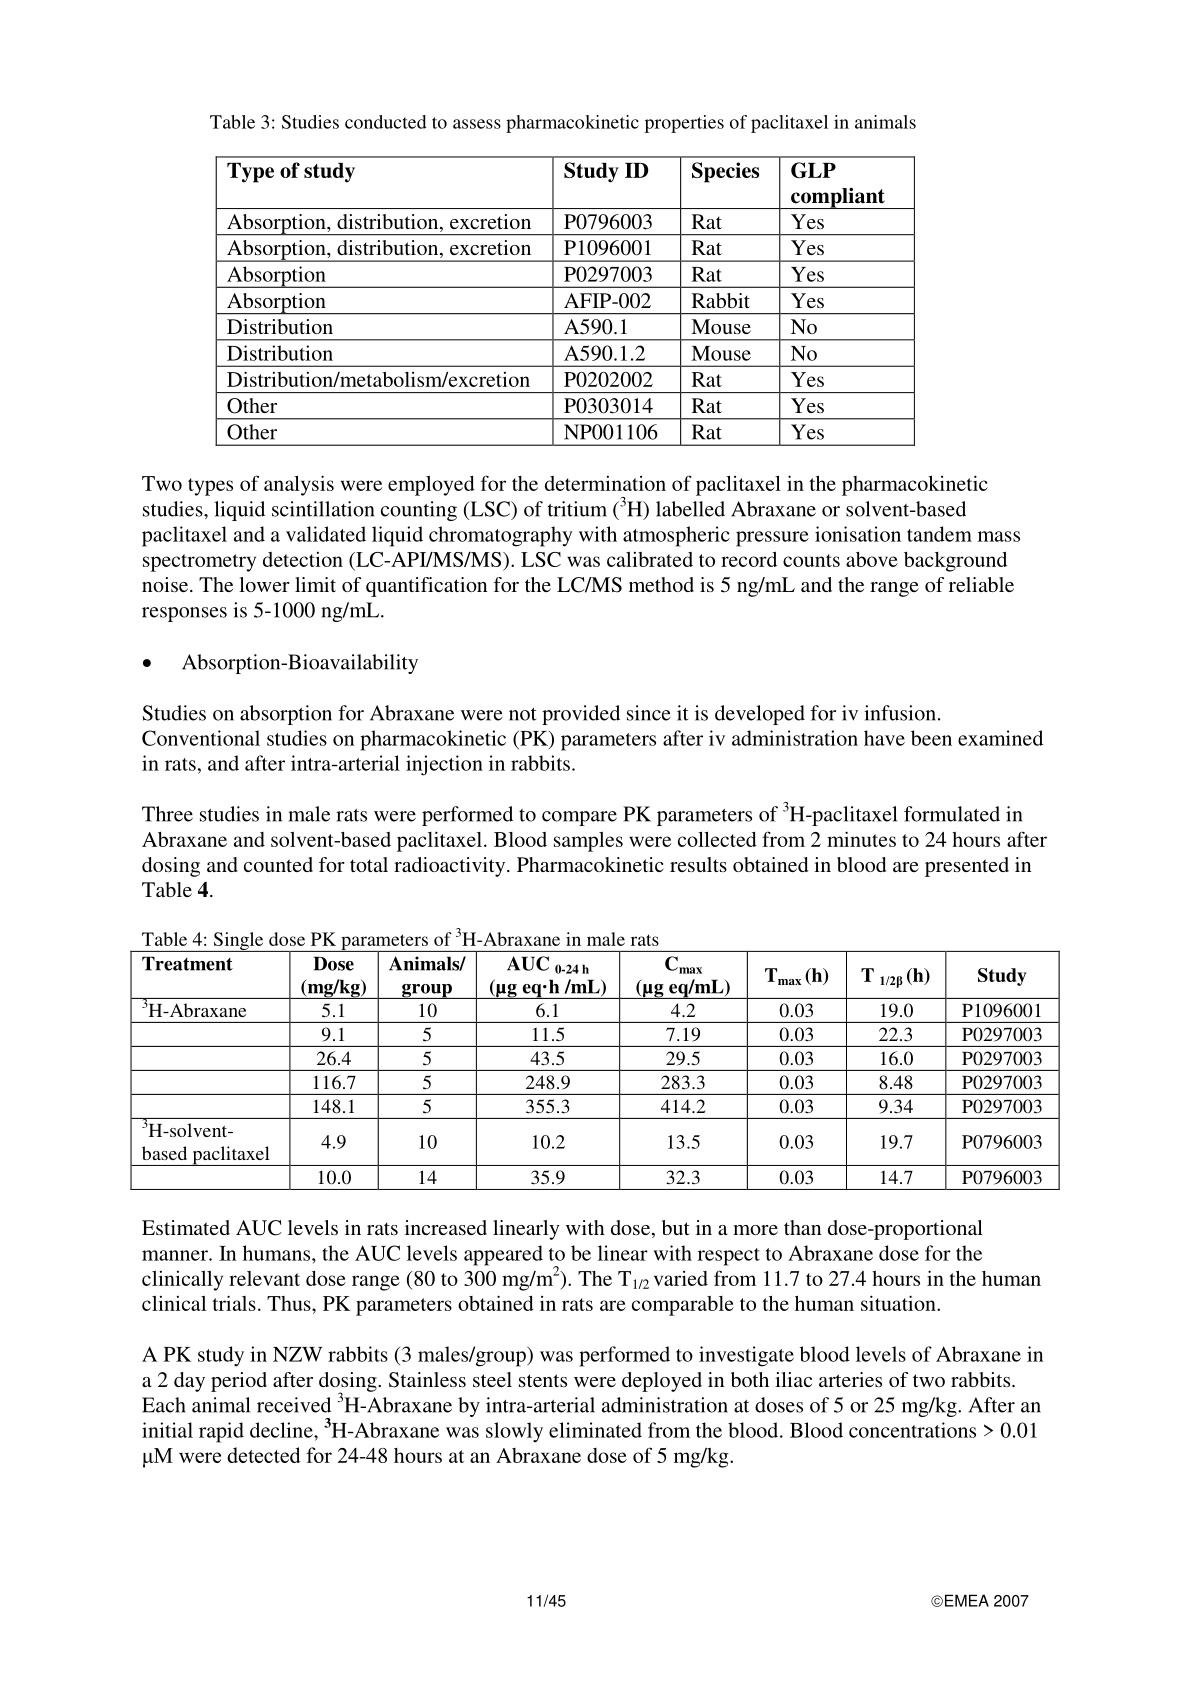full_lined: (129, 950, 1061, 1193), (214, 156, 916, 446)
